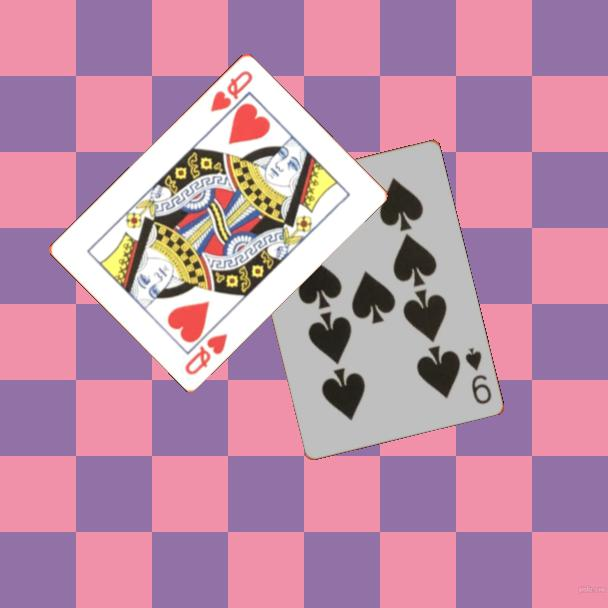h12: (206, 66, 256, 115), (181, 329, 231, 377)
s09: (461, 344, 494, 407)
